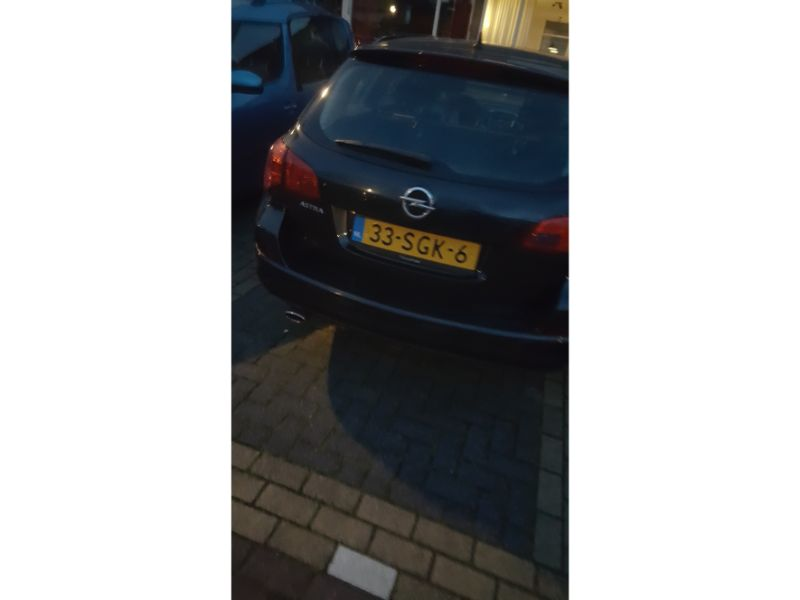kenteken: (345, 205, 480, 278)
